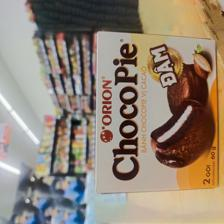Chocopie_cacao: (94, 28, 218, 193)
